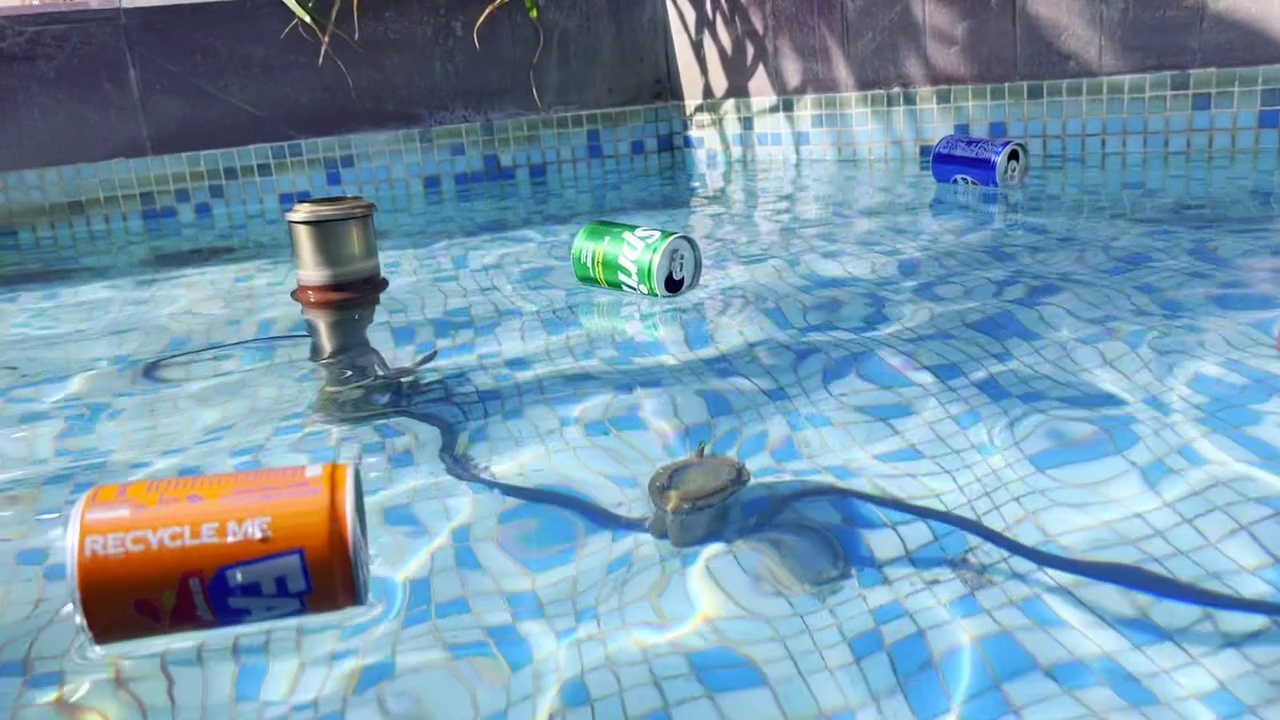debris: (56, 455, 376, 651), (563, 207, 711, 310), (924, 127, 1036, 196)
